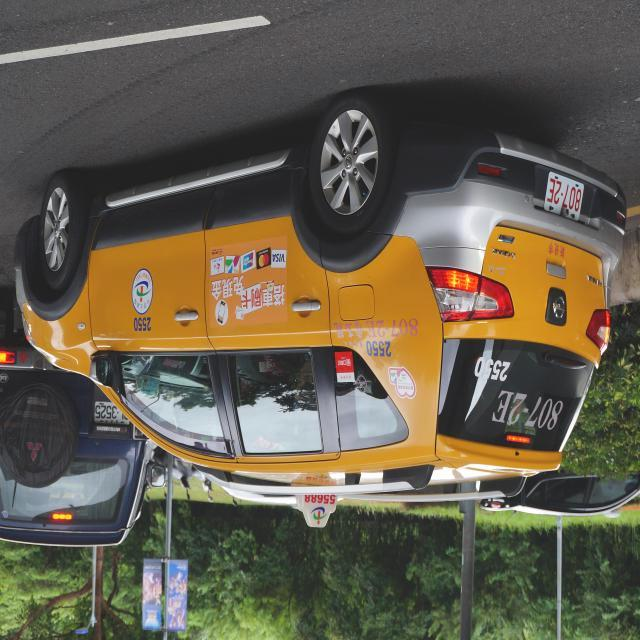taxi: (12, 81, 635, 544)
